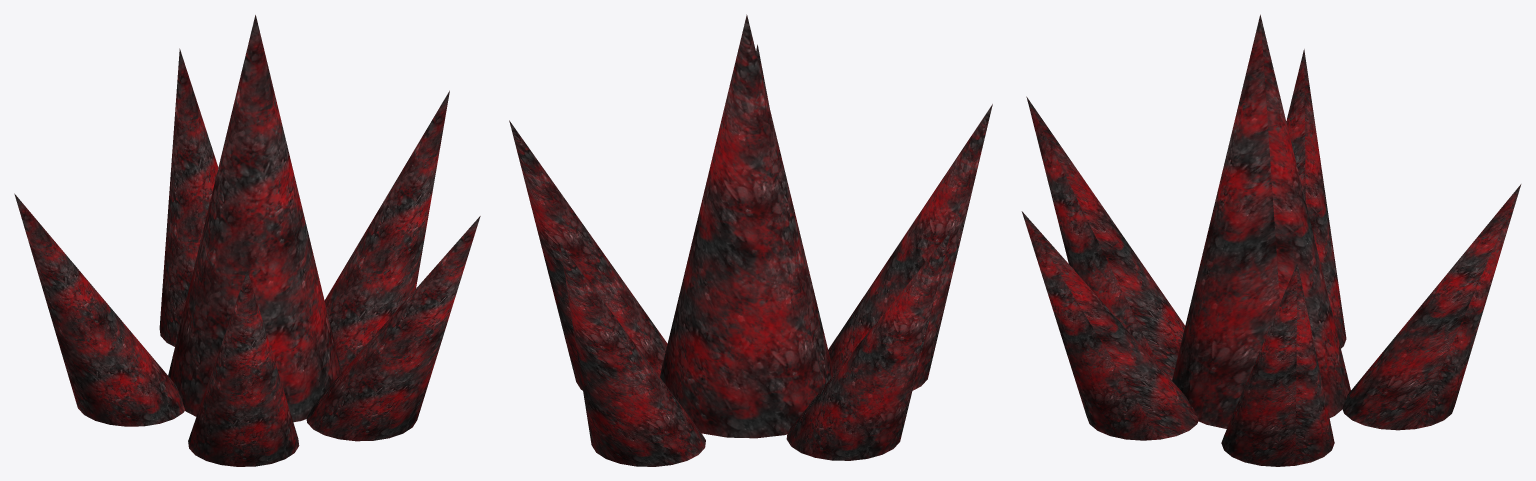
The model's file is SpikeGroupB.fbx.
3 renders of one model, left to right at view 1: azimuth 30°, elevation 25°; view 2: azimuth 150°, elevation 25°; view 3: azimuth 270°, elevation 25°, orthographic. The views are drawn at different scales.
Visible parts, largest first — view 1: pCone51, pCone52, pCone54, pCone55, pCone53, pCone56; view 2: pCone51, pCone52, pCone56, pCone53, pCone55; view 3: pCone51, pCone56, pCone54, pCone55, pCone53, pCone52.
Boxes of the visible parts, x1,y1,x2,y2 form: pCone51: (168,15,341,422); pCone52: (14,193,184,426); pCone54: (306,216,480,441); pCone55: (324,90,449,371); pCone53: (188,270,299,466); pCone56: (159,48,218,346); pCone51: (660,14,833,438); pCone52: (786,231,950,460); pCone56: (560,243,705,466); pCone53: (828,104,992,390); pCone55: (509,120,667,390); pCone51: (1172,14,1350,428); pCone56: (1342,184,1521,430); pCone54: (1021,211,1198,440); pCone55: (1221,263,1334,466); pCone53: (1026,96,1184,380); pCone52: (1286,49,1346,348).
Size of the model in its own units: 3.6 by 2.97 by 3.55.
